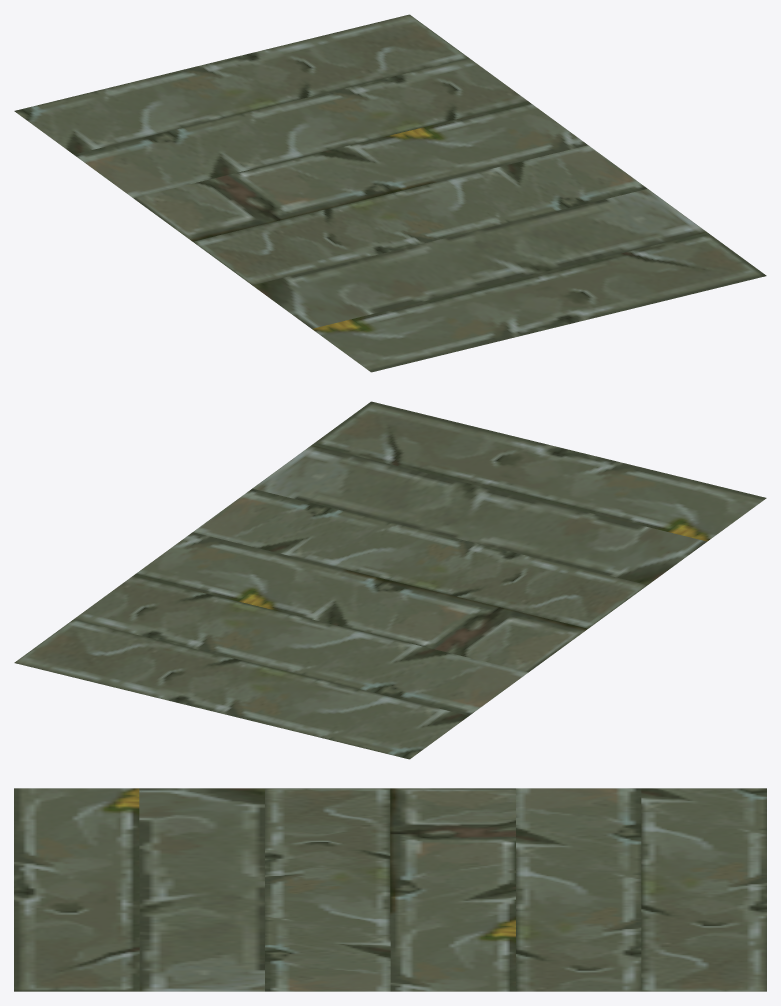
The model's file is fb_xsc_zj_04_d.FBX.
3 views of the same model, one above another, from view 1: azimuth 30°, elevation 25°; view 2: azimuth 150°, elevation 25°; view 3: azimuth 270°, elevation 25° (orthographic). The views are drawn at different scales.
Parts seen in each view (by area): view 1: fb_xsc_zj_04_d; view 2: fb_xsc_zj_04_d; view 3: fb_xsc_zj_04_d.
Part boxes in pixels (x1,y1,x2,y2): fb_xsc_zj_04_d: [14, 14, 766, 372]; fb_xsc_zj_04_d: [14, 401, 766, 759]; fb_xsc_zj_04_d: [14, 788, 766, 991].
Bounding box in the file's own units: 266 × 1.18e-13 × 416.
